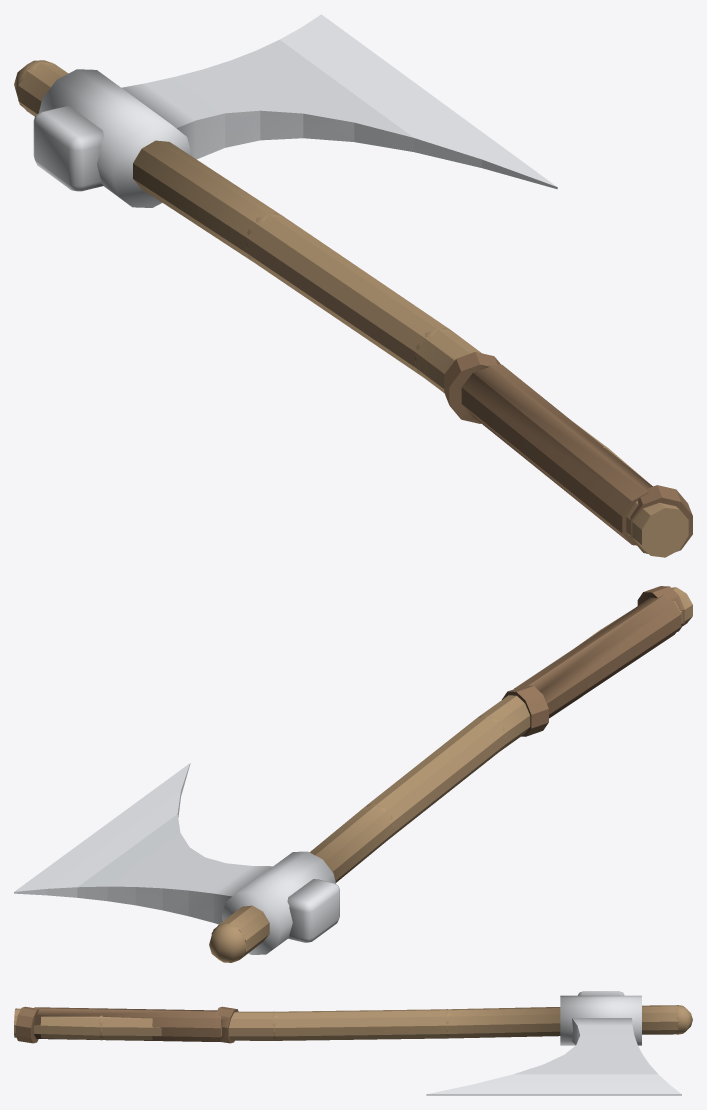
The model's file is axe.glb.
3 views of the same model, one above another, from view 1: azimuth 30°, elevation 25°; view 2: azimuth 150°, elevation 25°; view 3: azimuth 270°, elevation 25° (orthographic). The views are drawn at different scales.
Visible parts, largest first — view 1: axe; view 2: axe; view 3: axe.
Boxes of the visible parts, box(x1,y1,x2,y2) form: axe: box(14, 14, 692, 557); axe: box(14, 586, 692, 962); axe: box(14, 991, 692, 1095).
Bounding box in the file's own units: 0.224 × 0.052 × 0.7065.
